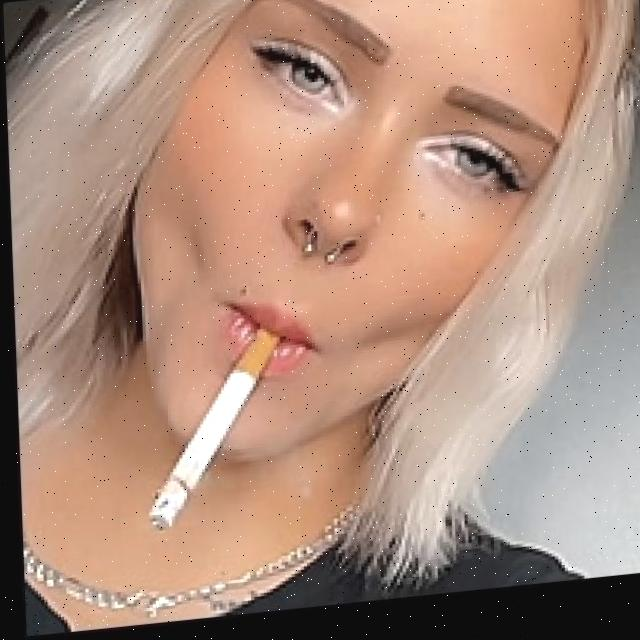cigarette: (143, 335, 281, 536)
